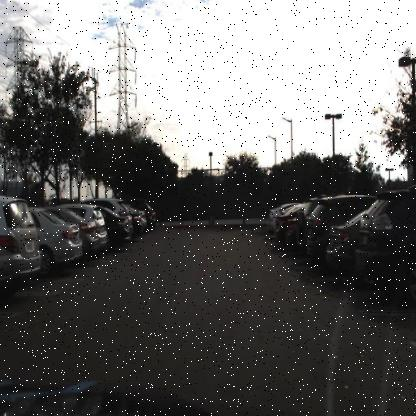car: (353, 185, 416, 300), (0, 190, 42, 298), (302, 194, 360, 267), (26, 204, 80, 281), (327, 208, 377, 278), (51, 206, 100, 260), (327, 213, 364, 280), (305, 198, 330, 268), (79, 203, 111, 250), (97, 198, 135, 233), (97, 204, 130, 244), (81, 219, 99, 256), (295, 206, 308, 256), (264, 206, 278, 238), (144, 201, 156, 232), (286, 218, 297, 251), (276, 212, 286, 243), (133, 215, 142, 238)
